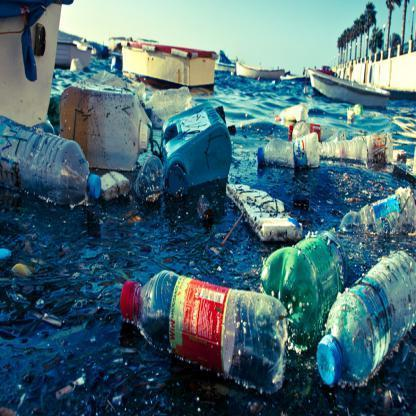plastic bottle: (119, 269, 287, 393), (318, 250, 416, 384), (1, 115, 101, 200), (266, 230, 344, 312), (256, 133, 320, 169), (341, 193, 397, 224), (328, 134, 392, 160), (135, 154, 165, 192), (146, 86, 190, 109), (290, 123, 344, 141), (371, 216, 414, 234), (276, 103, 310, 120)
